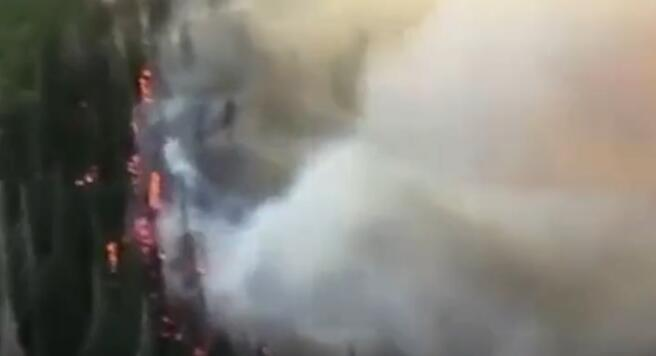fire: (102, 70, 169, 279)
yanwu: (149, 1, 655, 348)
